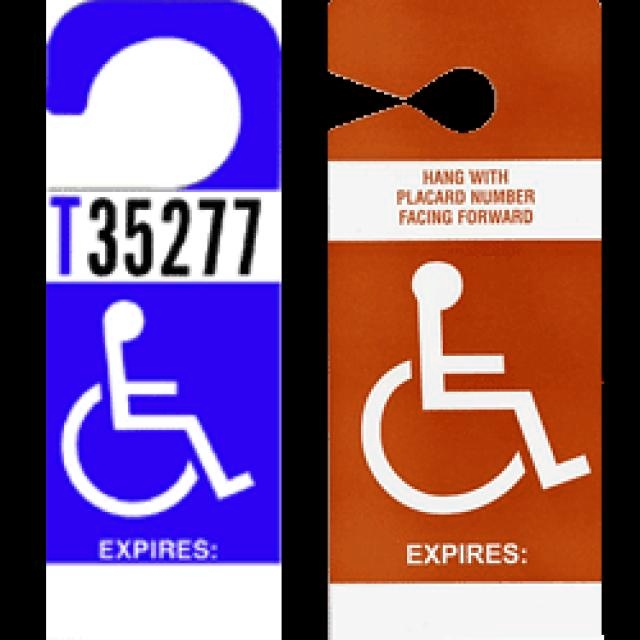ISA: (340, 251, 602, 525), (58, 302, 256, 521)
